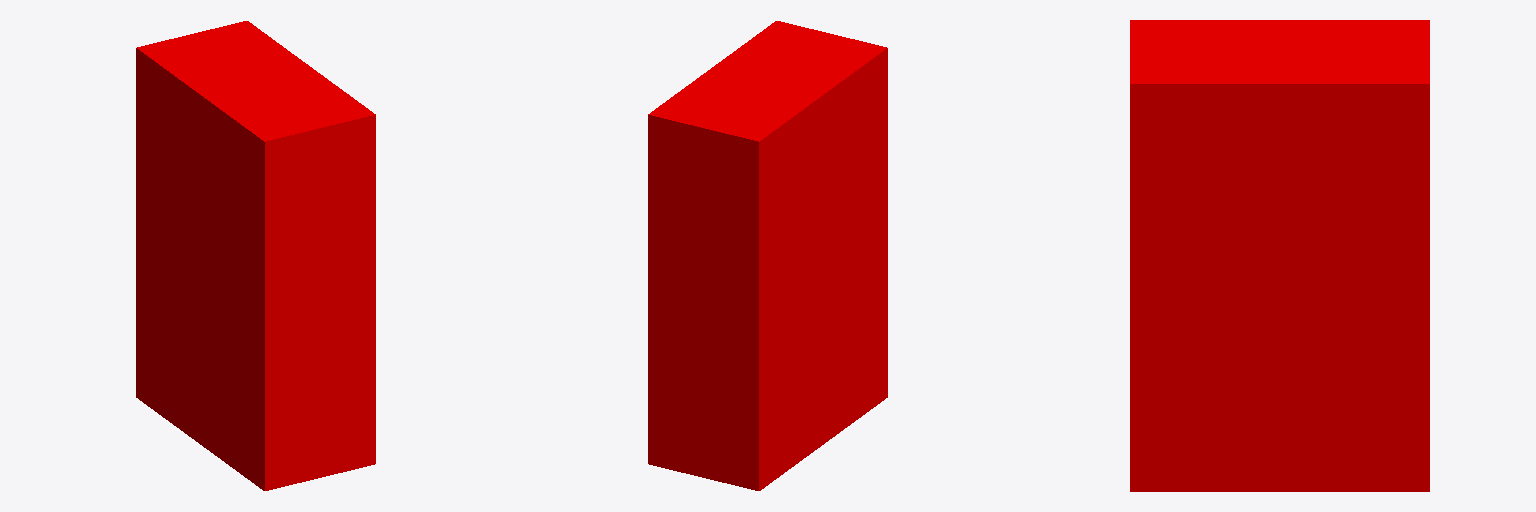
The robot description file, URDF, robot "dummy_hand":
<?xml version="1.0"?>
<robot name="dummy_hand">

  <link name="base_link">
    <visual>
      <geometry>
        <box size="0.1 0.2 0.3" />
      </geometry>
      <material name="red">
        <color rgba="1.0 0.0 0.0 1.0" />
      </material>
    </visual>
    <collision>
      <geometry>
        <box size="0.1 0.2 0.3" />
      </geometry>
    </collision>
    <inertial>
      <mass value="0.1" />
      <inertia ixx="0.001" ixy="0.0" ixz="0.0" iyy="0.001" iyz="0.0" izz="0.001" />
    </inertial>
  </link>

  <gazebo reference="base_link">
      <material>Gazebo/Red</material>
      <gravity>true</gravity>
  </gazebo>

</robot>

--- Render facts (derived) ---
The picture shows the robot from 3 angles, left to right: view 1: azimuth 30°, elevation 25°; view 2: azimuth 150°, elevation 25°; view 3: azimuth 270°, elevation 25°; orthographic projection.
Robot: dummy_hand — 1 links, 0 joints (none); root link base_link; default pose: every joint at zero.
Links seen in each view (by area): view 1: base_link; view 2: base_link; view 3: base_link.
Boxes of the visible links, <box> form: base_link: <box>136,21,375,490</box>; base_link: <box>648,21,887,490</box>; base_link: <box>1130,20,1429,491</box>.
Bounding box of the posed robot: 0.1 × 0.2 × 0.3 m (x, y, z).
Geometry: primitives only (box / cylinder / sphere), no mesh files.